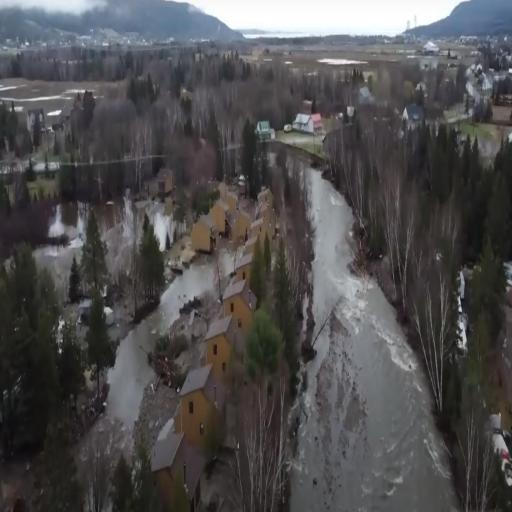flood: (291, 163, 458, 510), (104, 255, 216, 452), (34, 202, 88, 292), (94, 195, 180, 249)
house: (150, 426, 207, 512), (178, 362, 228, 452), (221, 274, 259, 329), (206, 315, 237, 379), (190, 214, 220, 256), (294, 109, 322, 138), (254, 118, 276, 145), (213, 200, 229, 230), (403, 102, 422, 122), (251, 217, 265, 241)
